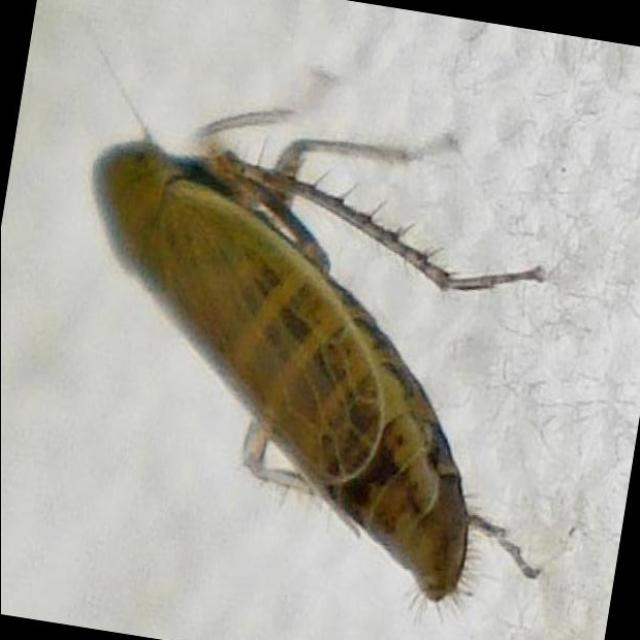green leaf hopper: (92, 108, 538, 601)
